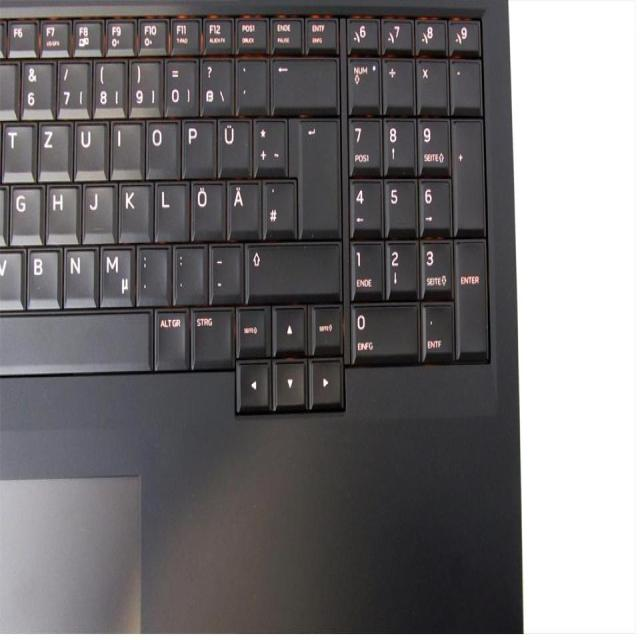0: (163, 56, 196, 115)
6: (20, 58, 52, 114)
7: (57, 57, 88, 114)
8: (93, 57, 123, 115)
9: (128, 56, 159, 115)
accent: (236, 55, 266, 112)
ae: (227, 178, 259, 236)
altgr-right: (152, 308, 189, 370)
b: (25, 245, 59, 305)
comma: (136, 242, 167, 305)
del: (271, 55, 337, 109)
enter: (288, 115, 340, 236)
g: (10, 184, 40, 239)
h: (45, 181, 77, 241)
hash: (263, 176, 294, 236)
i: (110, 119, 140, 174)
j: (82, 180, 113, 238)
k: (118, 180, 153, 241)
keyboard: (2, 6, 493, 418)
l: (155, 179, 189, 239)
m: (99, 242, 132, 305)
minus: (208, 242, 240, 301)
n: (63, 244, 95, 305)
o: (144, 116, 177, 178)
oe: (190, 178, 223, 239)
p: (180, 116, 214, 177)
plus: (253, 115, 285, 173)
point: (172, 242, 205, 303)
shift-right: (244, 239, 340, 300)
space: (0, 308, 150, 375)
ss: (199, 54, 231, 114)
strg-right: (189, 305, 232, 366)
t: (2, 120, 32, 175)
u: (73, 118, 105, 178)
ue: (217, 115, 250, 177)
z: (37, 119, 69, 177)
